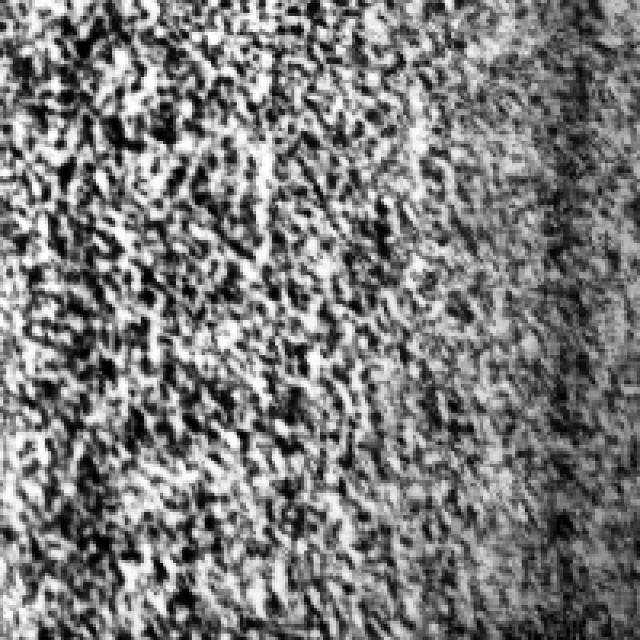Rolled_in_Scale: (0, 0, 470, 630)
